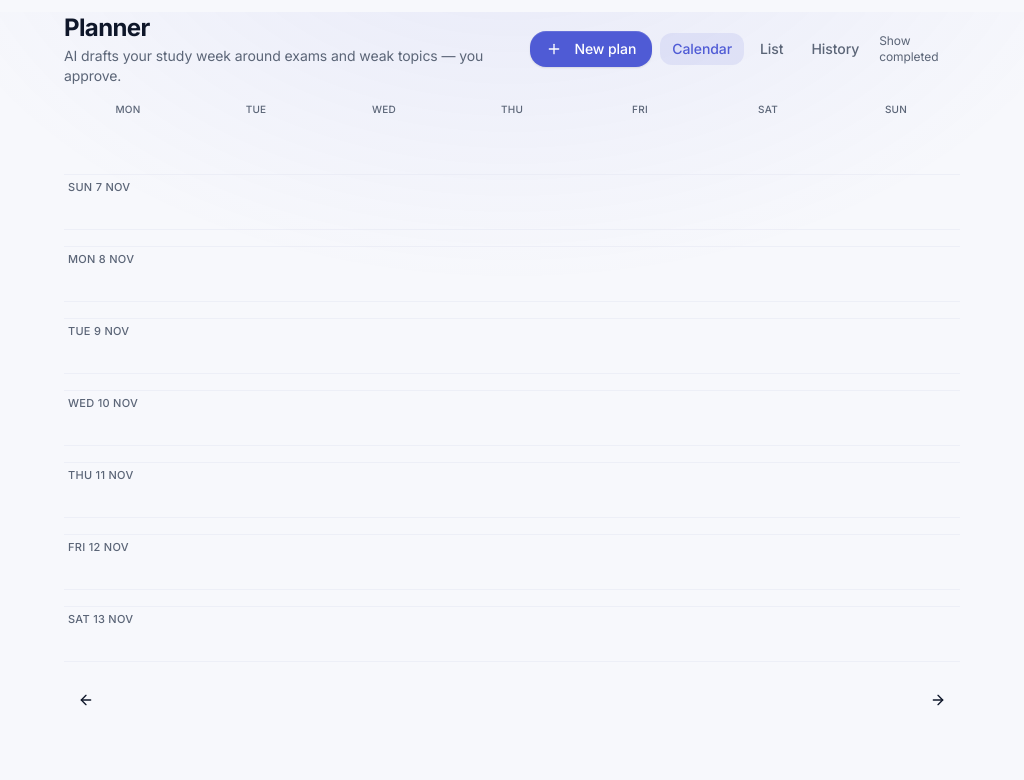
Test: the committed-task controls › deletes through the mutation and refreshes the list
Click the tab "List" at (772, 49), box x1=748 y1=33 x2=795 y2=65
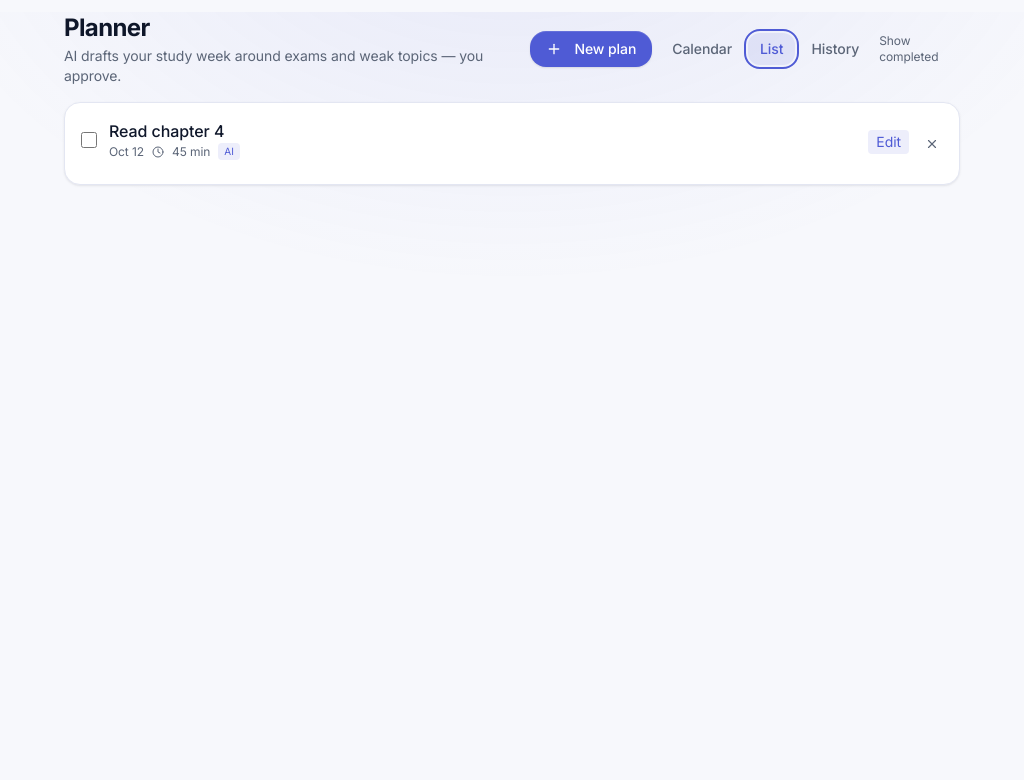
Click the button named "Delete task" at (932, 144), box x1=921 y1=133 x2=943 y2=155
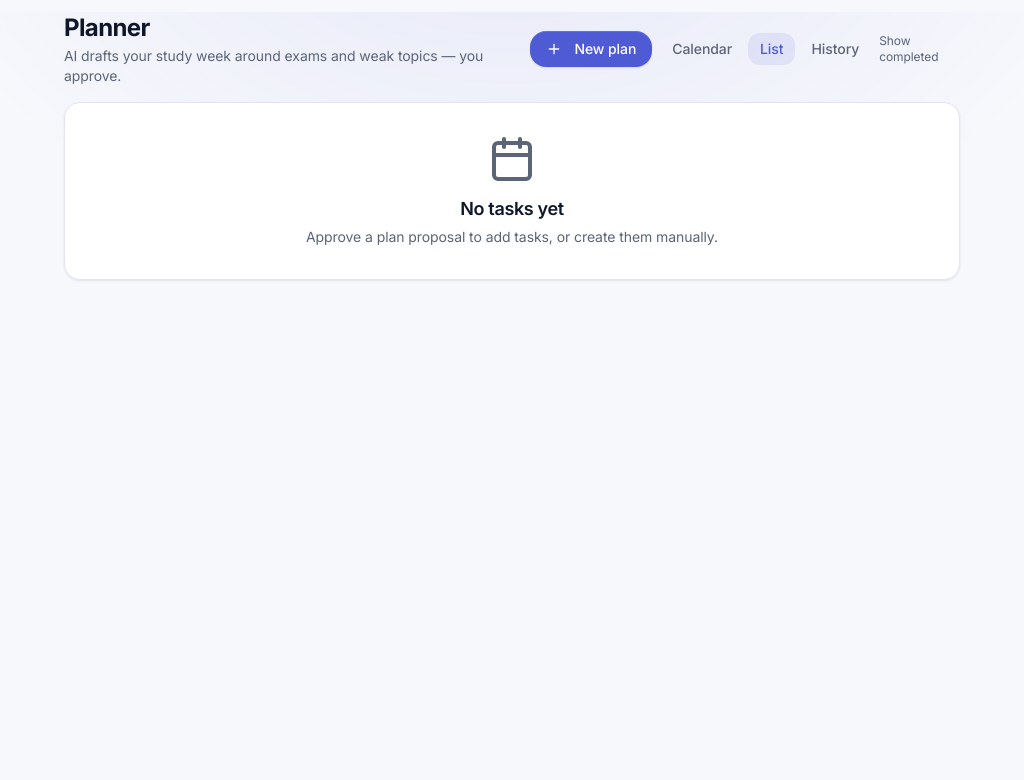
Now the text "Read chapter 4" is gone
